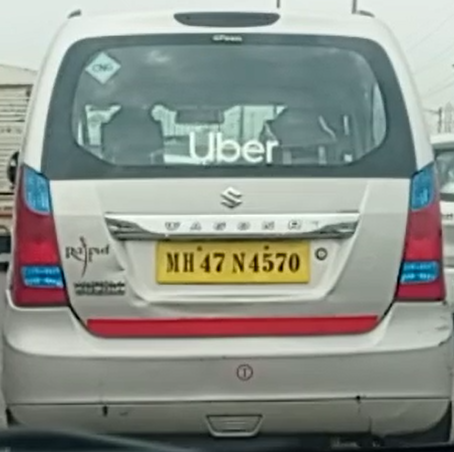MH47N4570: (155, 239, 311, 285)
